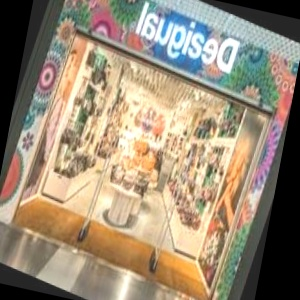desigual: (201, 3, 300, 34)
